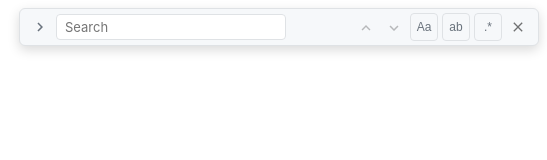
SearchReplacePanel › T-SR-03: regex search works
Click the button ".*": (488,27) [474,13,502,41]
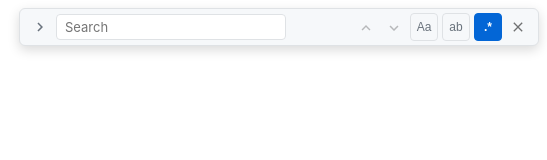
In the field with placeholder "Search": (171,27) [56,14,286,40], type "\\d+"
Wait 200 ms
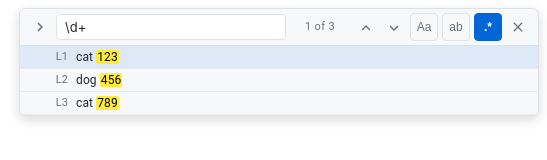
Now the text "1 of 3" is shown, box [305,20,335,33]
